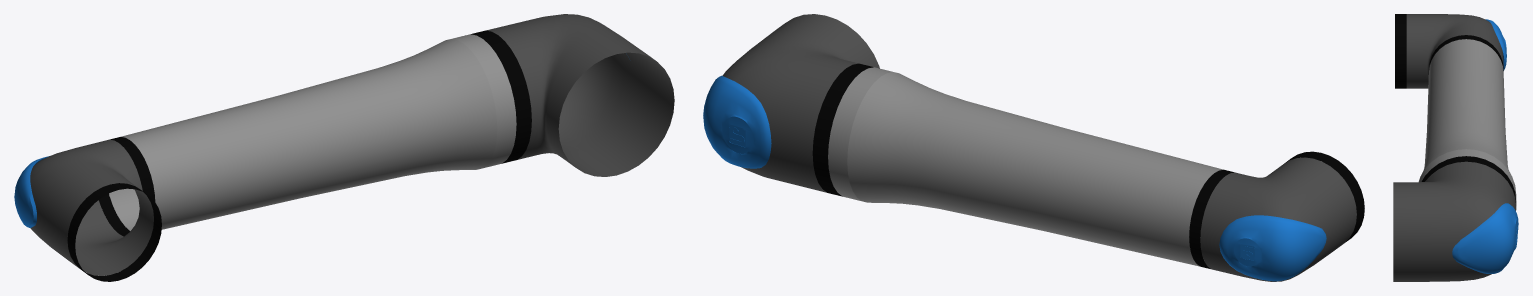
The model's file is forearm.dae.
3 views of the same model, side by side, from view 1: azimuth 30°, elevation 25°; view 2: azimuth 150°, elevation 25°; view 3: azimuth 270°, elevation 25° (orthographic). The views are drawn at different scales.
Parts seen in each view (by area): view 1: elbow_001, elbow-1_pad_logo; view 2: elbow_001, elbow-1_pad_logo, elbow_pad_Logo_002; view 3: elbow_001, elbow_pad_Logo_002, elbow-1_pad_logo.
Part boxes in pixels (x1=…): elbow_001: x1=30, y1=14, x2=674, y2=281; elbow-1_pad_logo: x1=14, y1=156, x2=49, y2=227; elbow_001: x1=722, y1=14, x2=1364, y2=281; elbow-1_pad_logo: x1=1219, y1=215, x2=1326, y2=281; elbow_pad_Logo_002: x1=703, y1=75, x2=771, y2=168; elbow_001: x1=1393, y1=14, x2=1516, y2=281; elbow_pad_Logo_002: x1=1452, y1=203, x2=1518, y2=273; elbow-1_pad_logo: x1=1485, y1=19, x2=1506, y2=70.
Bounding box in the file's own units: 0.6257 × 0.1511 × 0.1205.
